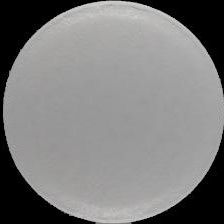55111-468: (0, 0, 224, 224)
